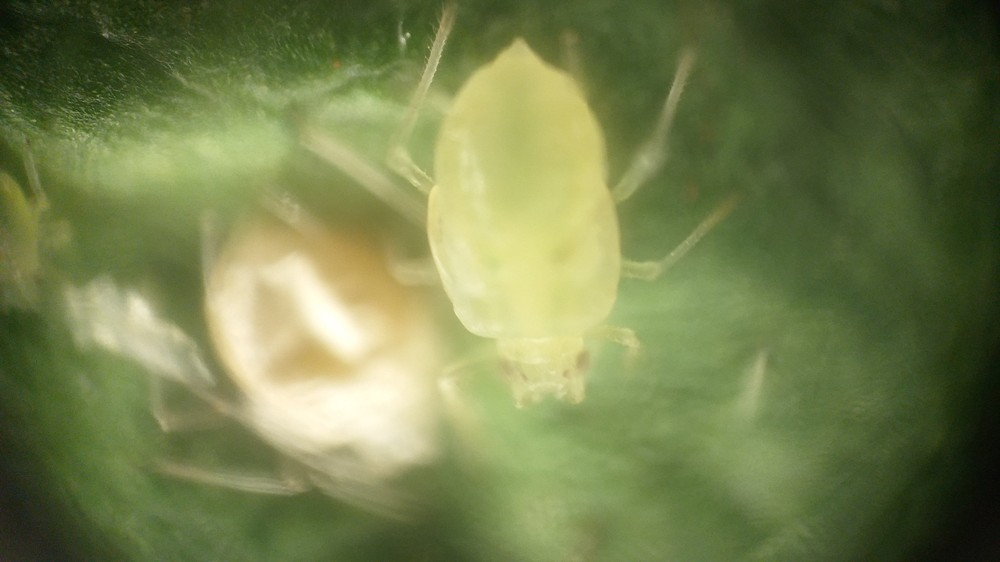Pulgon: (345, 13, 774, 442)
